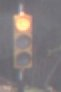Red: (7, 10, 38, 79)
